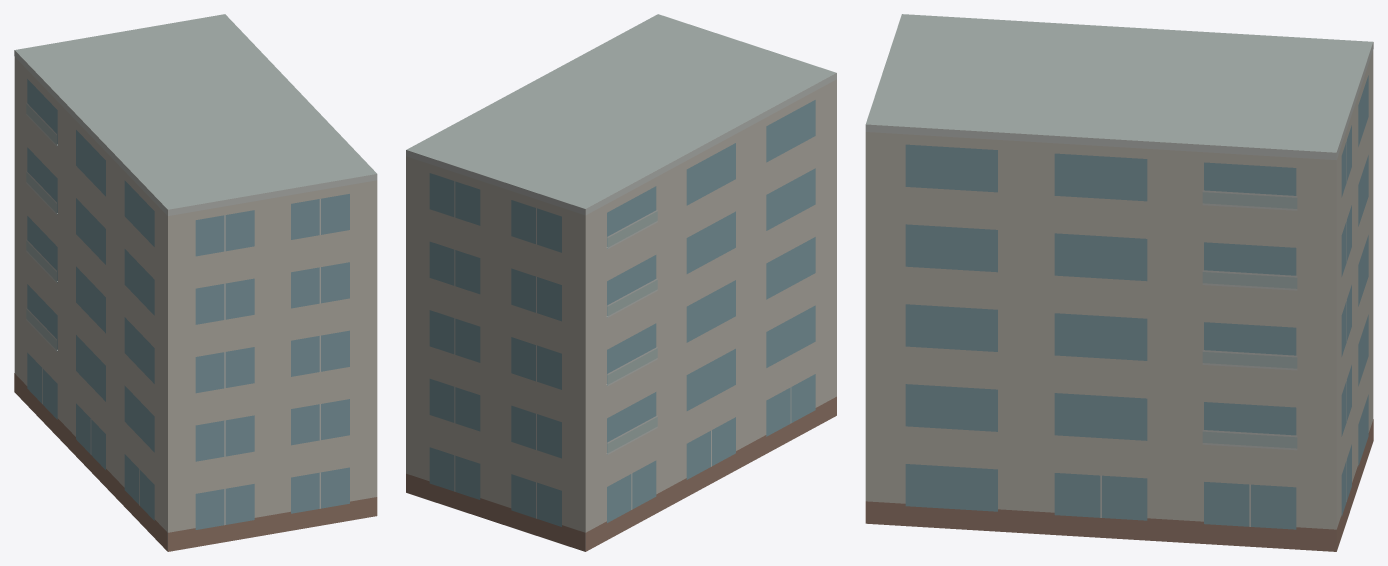
The model's file is survey-upis-32934738.glb.
3 renders of one model, left to right at view 1: azimuth 30°, elevation 25°; view 2: azimuth 150°, elevation 25°; view 3: azimuth 270°, elevation 25°, orthographic. The views are drawn at different scales.
Visible parts, largest first — view 1: survey-upis-32934738.tmp; view 2: survey-upis-32934738.tmp; view 3: survey-upis-32934738.tmp.
Part boxes in pixels (x1=…): survey-upis-32934738.tmp: x1=14, y1=14, x2=377, y2=551; survey-upis-32934738.tmp: x1=406, y1=14, x2=836, y2=551; survey-upis-32934738.tmp: x1=865, y1=14, x2=1373, y2=551.
Size of the model in its own units: 9.73 by 13.05 by 15.06.
